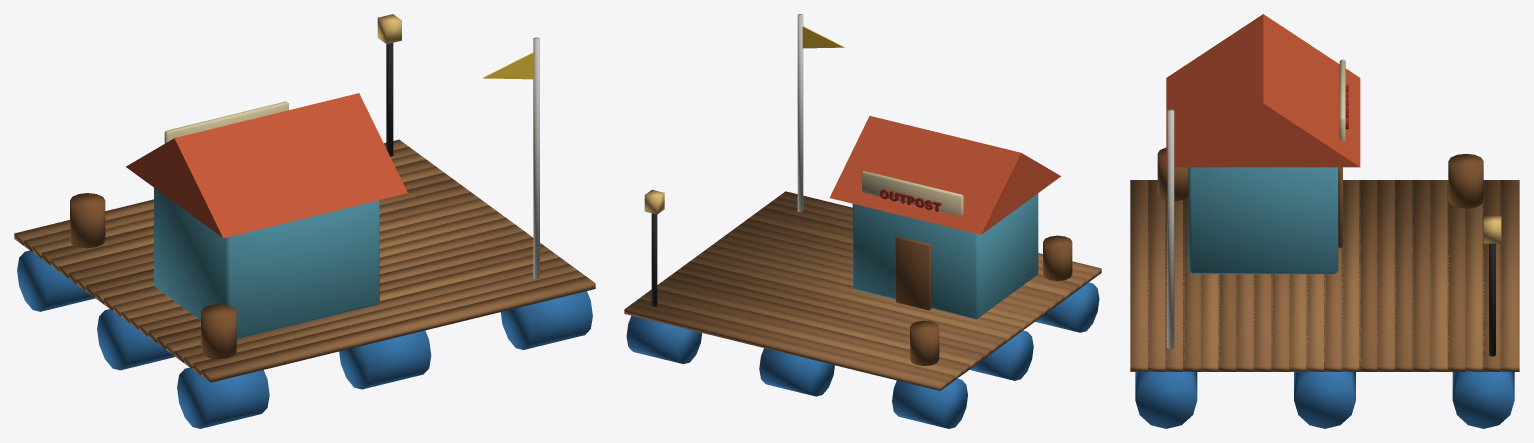
The model's file is outpost.glb.
3 renders of one model, left to right at view 1: azimuth 30°, elevation 25°; view 2: azimuth 150°, elevation 25°; view 3: azimuth 270°, elevation 25°, orthographic. The views are drawn at different scales.
Parts seen in each view (by area): view 1: Outpost, Glow; view 2: Outpost, Glow; view 3: Outpost, Glow.
Boxes of the visible parts, x1,y1,x2,y2 form: Outpost: (14, 37, 595, 428); Glow: (377, 14, 401, 44); Outpost: (624, 14, 1101, 428); Glow: (644, 190, 664, 214); Outpost: (1130, 14, 1519, 428); Glow: (1483, 216, 1501, 243).
Size of the model in its own units: 10 by 7.5 by 8.84.
